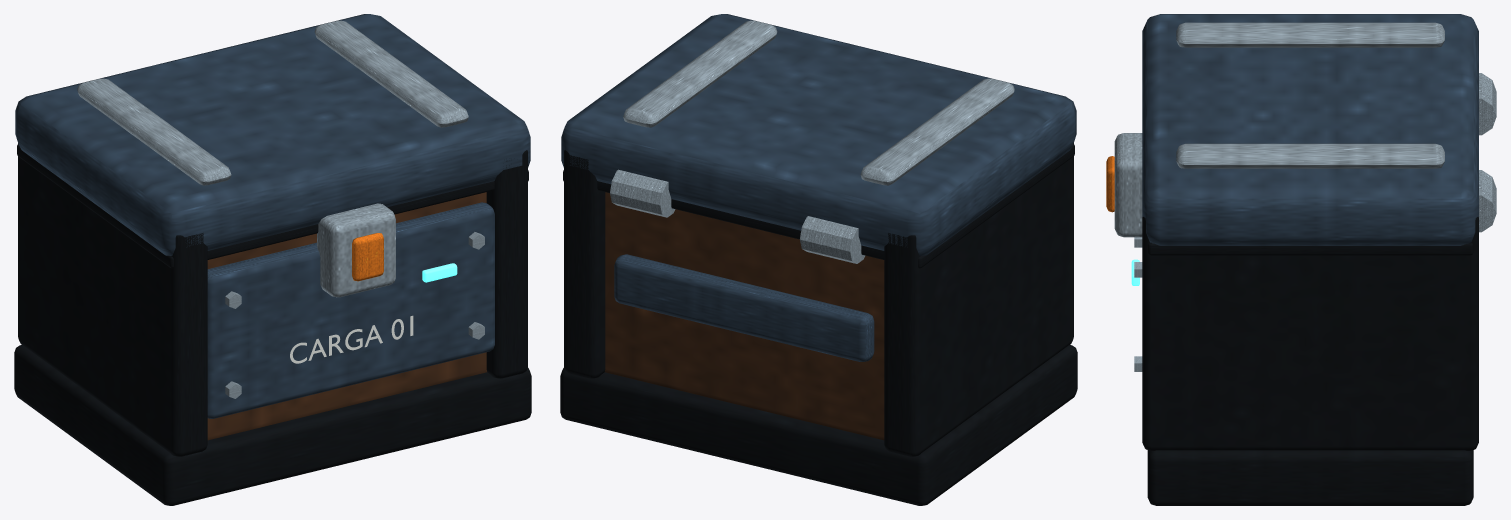
The model's file is bau.glb.
3 renders of one model, left to right at view 1: azimuth 30°, elevation 25°; view 2: azimuth 150°, elevation 25°; view 3: azimuth 270°, elevation 25°, orthographic. The views are drawn at different scales.
Visible parts, largest first — view 1: Painel frontal.001, Base do baú.001, Dobradiça traseira.002, Corpo texturizado.001, Trava.001, CARGA 01.001; view 2: Painel frontal.001, Base do baú.001, Corpo texturizado.001, Dobradiça traseira.002; view 3: Base do baú.001, Painel frontal.001, Dobradiça traseira.002, Trava.001.
Boxes of the visible parts, bbox=[...] form: Painel frontal.001: bbox=[15, 14, 530, 418]; Base do baú.001: bbox=[14, 143, 531, 505]; Dobradiça traseira.002: bbox=[77, 20, 484, 398]; Corpo texturizado.001: bbox=[207, 192, 486, 440]; Trava.001: bbox=[352, 233, 383, 281]; CARGA 01.001: bbox=[290, 315, 413, 363]; Painel frontal.001: bbox=[561, 14, 1076, 361]; Base do baú.001: bbox=[560, 143, 1077, 505]; Corpo texturizado.001: bbox=[605, 192, 884, 440]; Dobradiça traseira.002: bbox=[610, 20, 1014, 263]; Base do baú.001: bbox=[1142, 217, 1478, 505]; Painel frontal.001: bbox=[1142, 14, 1478, 245]; Dobradiça traseira.002: bbox=[1114, 22, 1496, 371]; Trava.001: bbox=[1106, 156, 1114, 212].
Bounding box in the file's own units: 1.24 × 1.01 × 1.09.
Materials: 7 (5 with a texture image).
